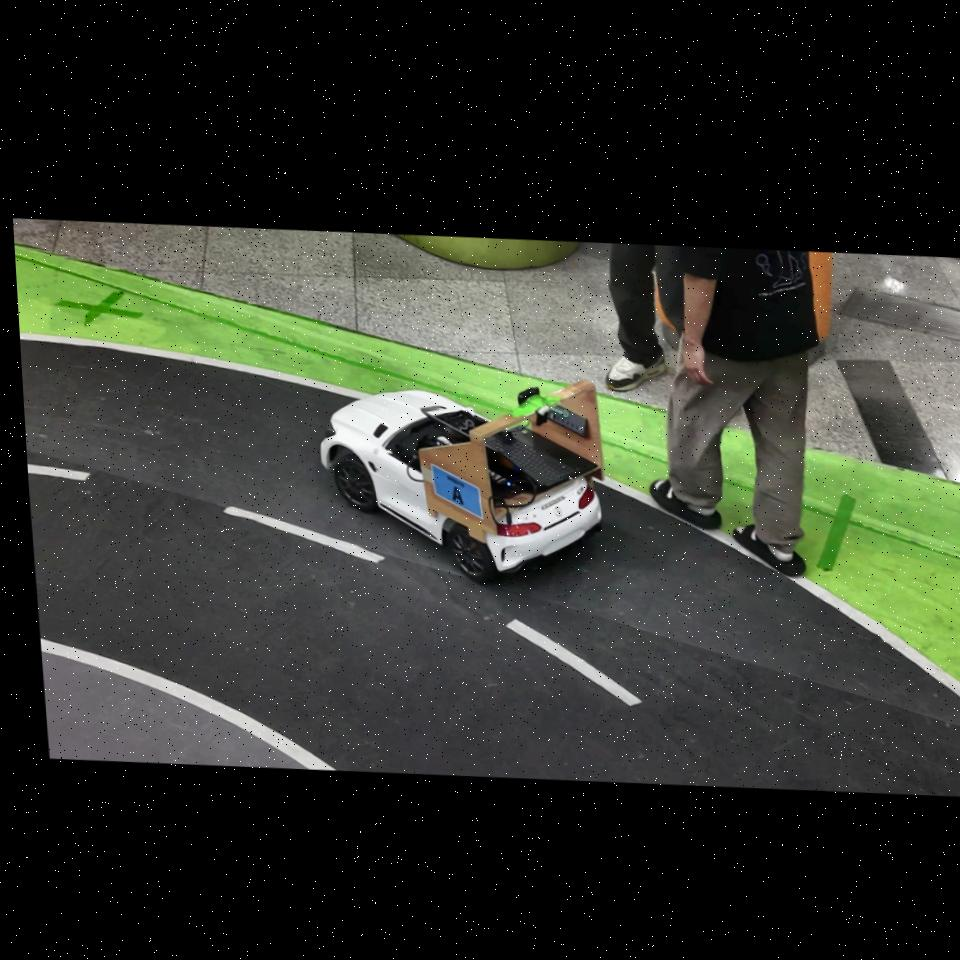broken_line: (507, 620, 641, 706), (224, 506, 384, 563), (28, 463, 90, 481)
